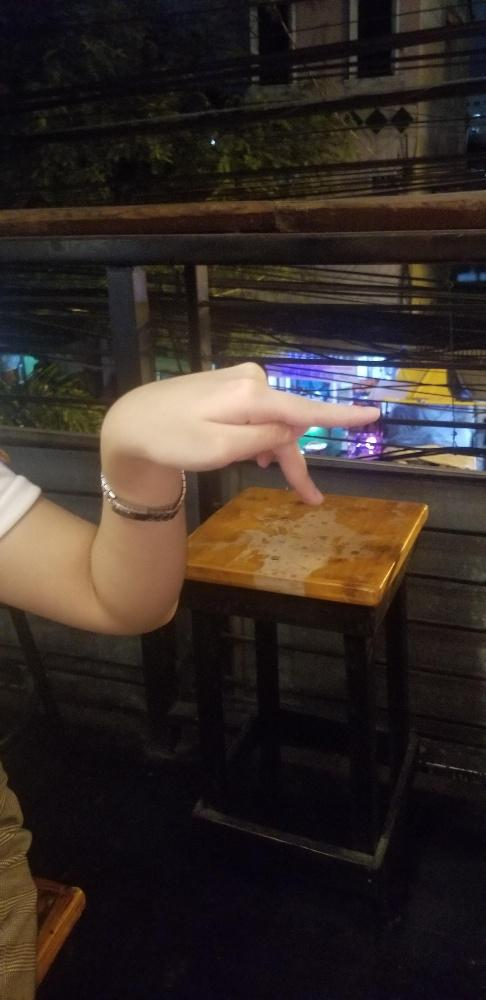p: (98, 361, 381, 505)
